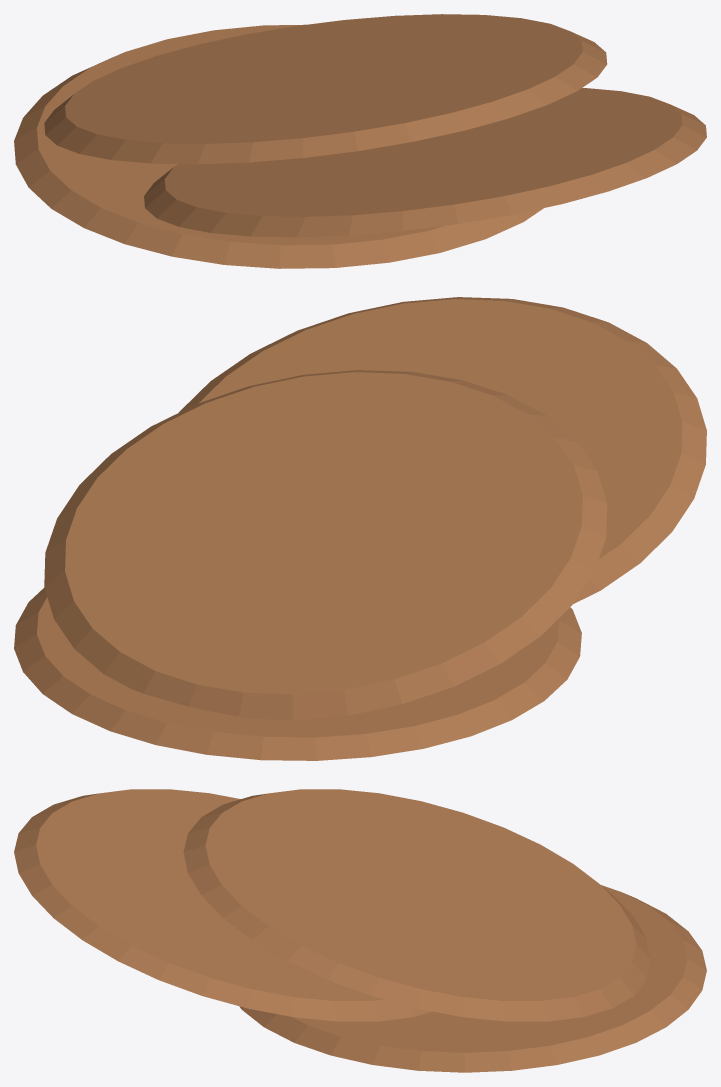
The model's file is Biscuits.fbx.
The picture shows the model from 3 angles, top to bottom: view 1: azimuth 30°, elevation 25°; view 2: azimuth 150°, elevation 25°; view 3: azimuth 270°, elevation 25°; orthographic projection. The views are drawn at different scales.
Parts seen in each view (by area): view 1: Biscuits; view 2: Biscuits; view 3: Biscuits.
Part boxes in pixels (x1,y1,x2,y2): Biscuits: (14, 14, 706, 268); Biscuits: (14, 297, 706, 760); Biscuits: (14, 789, 706, 1072).
Size of the model in its own units: 176 by 50.39 by 253.
